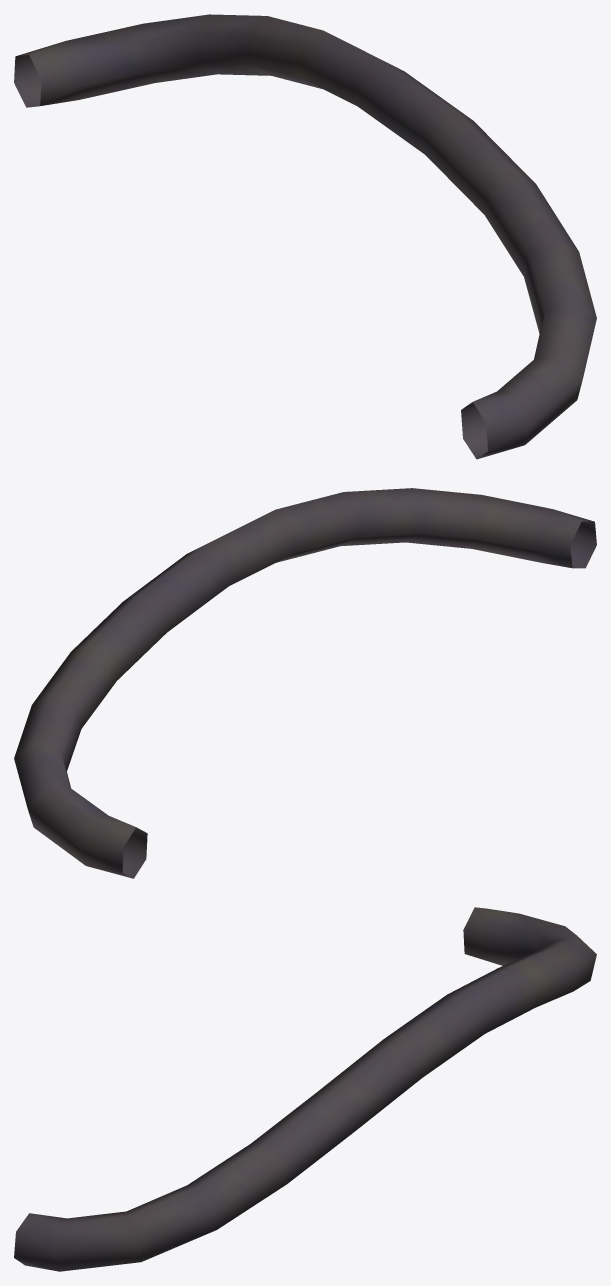
The model's file is Pipes_6.fbx.
The picture shows the model from 3 angles, top to bottom: view 1: azimuth 30°, elevation 25°; view 2: azimuth 150°, elevation 25°; view 3: azimuth 330°, elevation 25°; orthographic projection. The views are drawn at different scales.
Visible parts, largest first — view 1: Pipes_6; view 2: Pipes_6; view 3: Pipes_6.
Part boxes in pixels (x1,y1,x2,y2): Pipes_6: (14, 14, 596, 459); Pipes_6: (14, 488, 596, 878); Pipes_6: (14, 907, 596, 1271).
Size of the model in its own units: 60.14 by 36.89 by 237.
